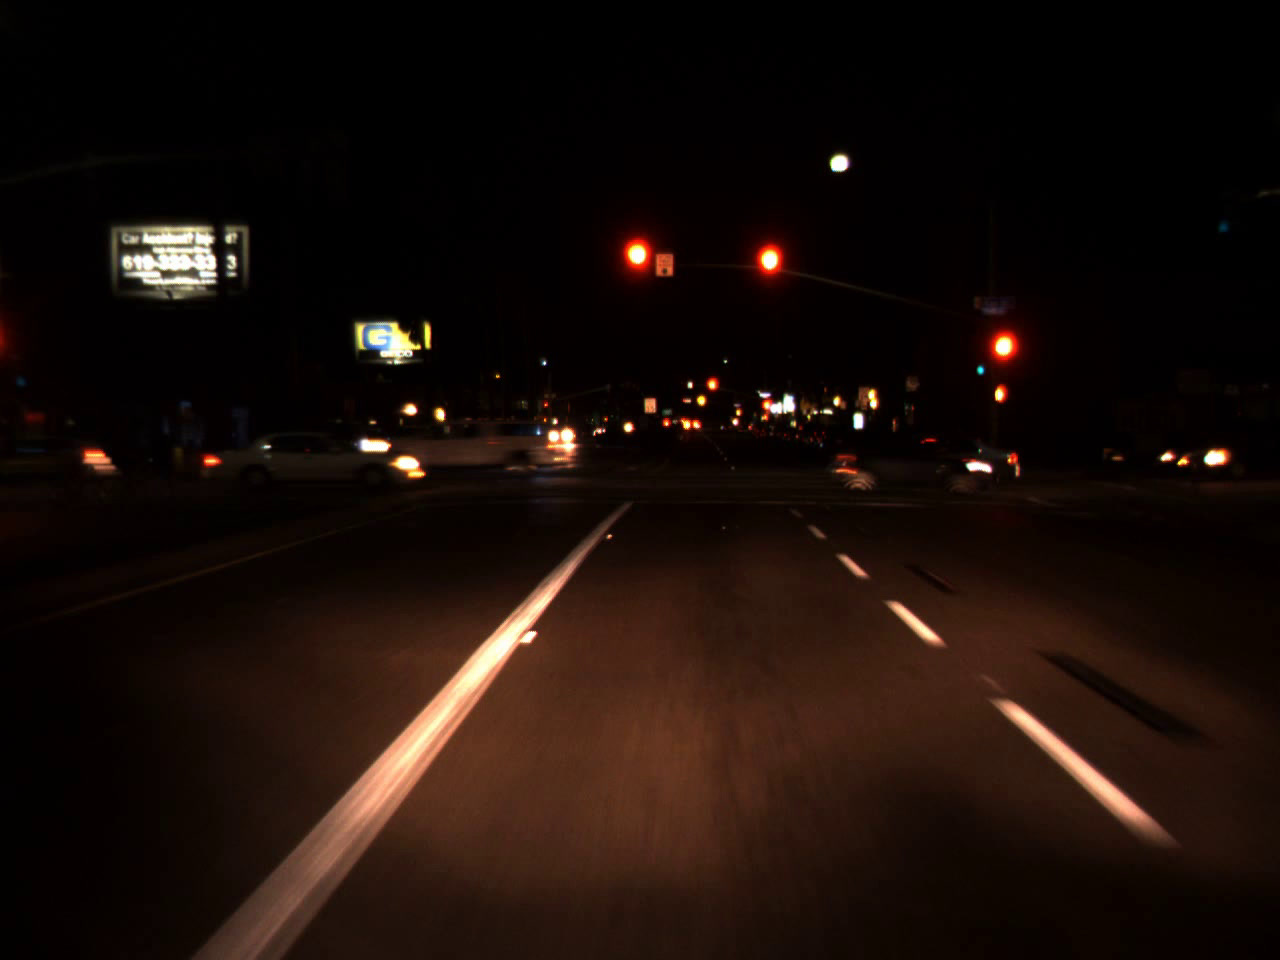stop: (985, 325, 1024, 400), (752, 237, 788, 315), (620, 235, 657, 310), (759, 397, 774, 424), (705, 376, 718, 405)
warning: (695, 388, 707, 413), (734, 401, 743, 421)
